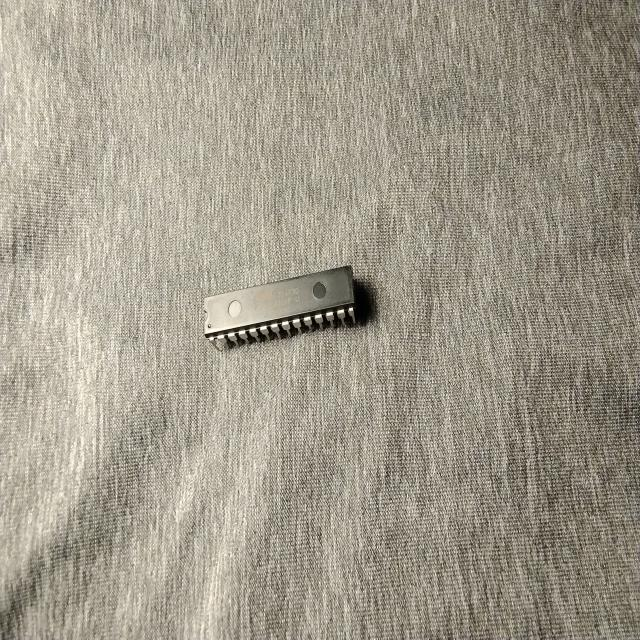atmega: (200, 262, 358, 353)
